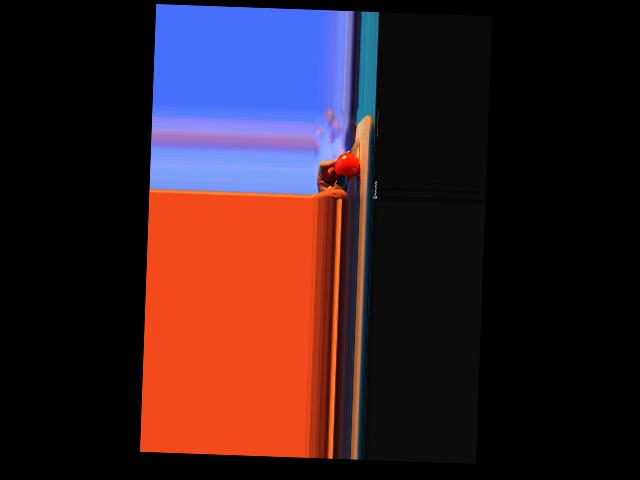tomato: (334, 151, 360, 178)
